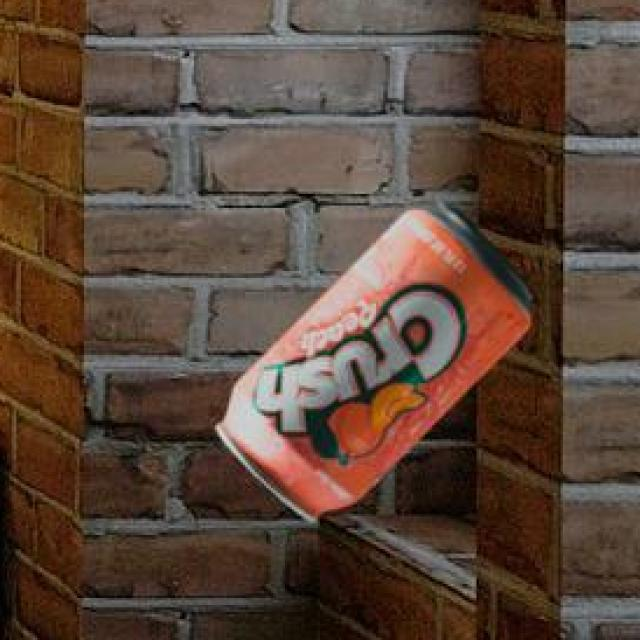logam: (211, 197, 527, 517)
